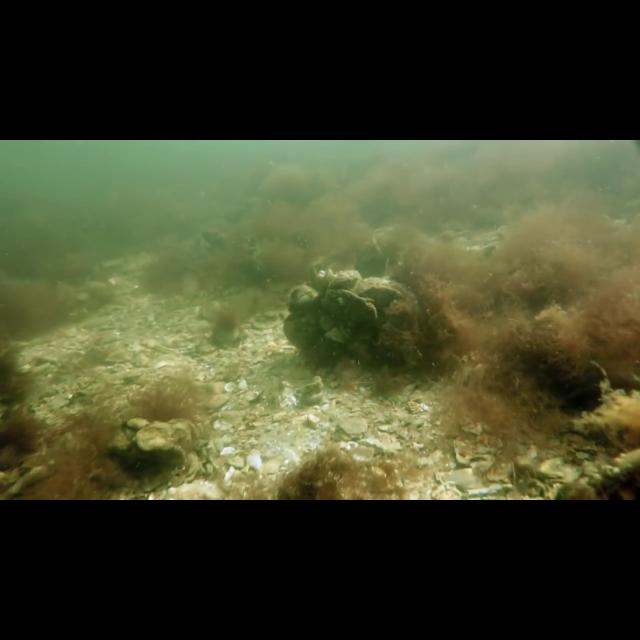Oyster-Closed: (320, 287, 385, 324), (356, 277, 408, 299), (328, 271, 360, 288), (323, 326, 348, 346)
